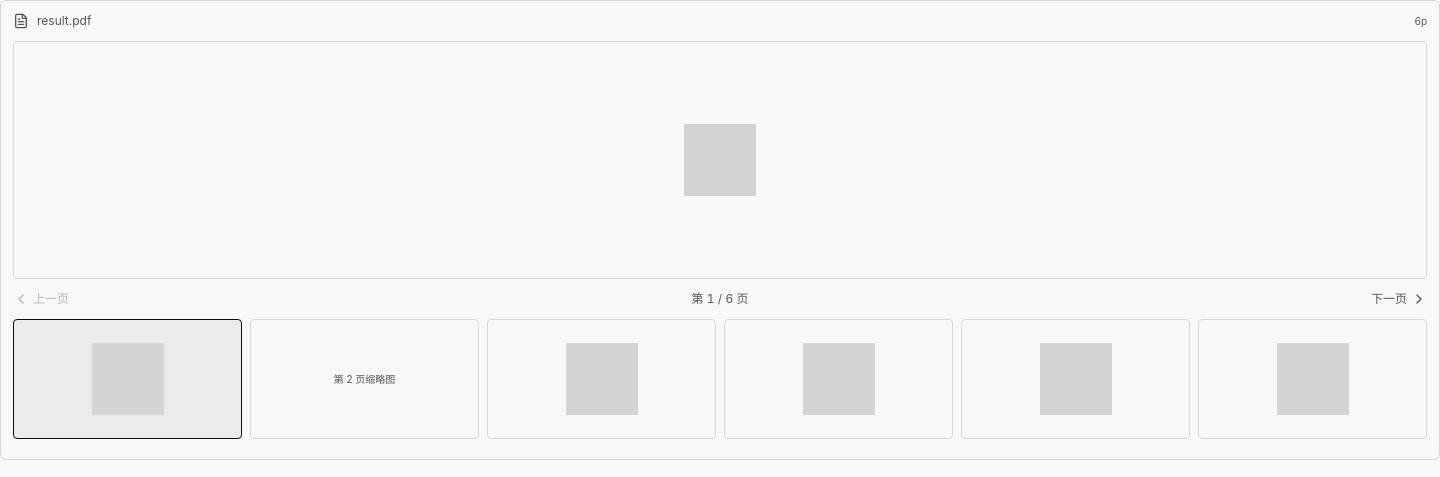
Test case: PdfResultPreview › limits thumbnail rendering to three concurrent pages and recovers from a failed thumbnail
Click the button "第 2 页缩略图".
click(364, 379)  # box [250,319,479,439]
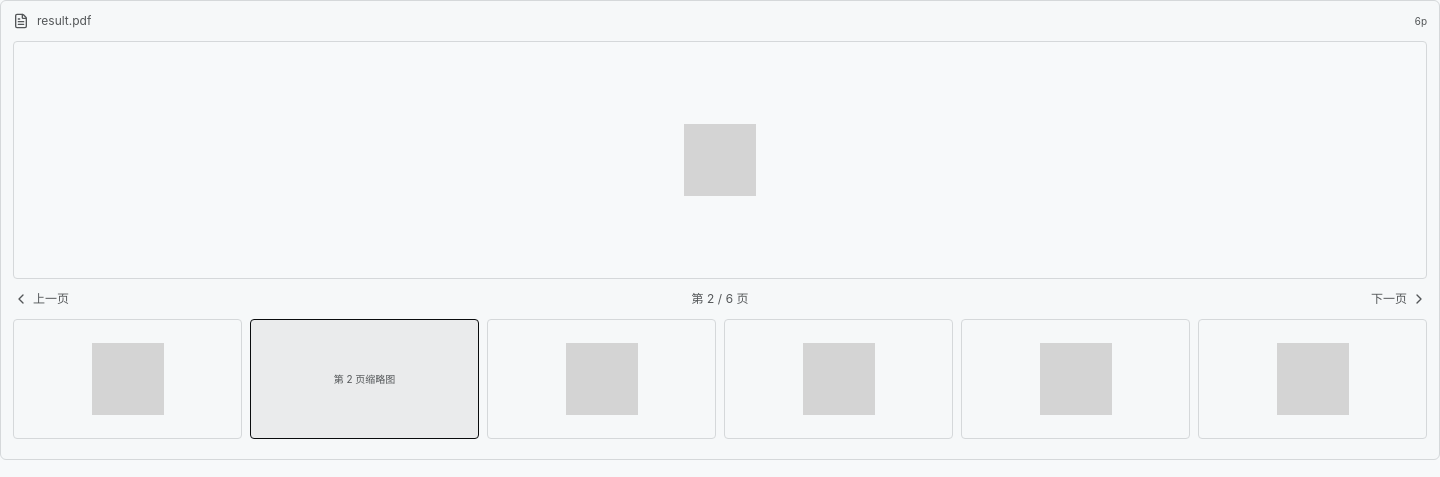
Expected: the text "第 2 / 6 页" is shown, [692,291,748,307]
